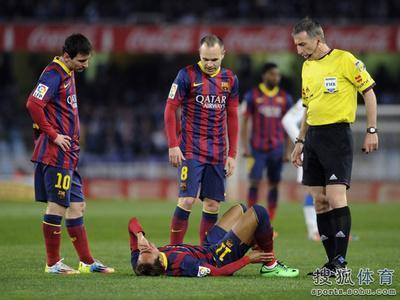Fall-Detected: (121, 197, 293, 278)
